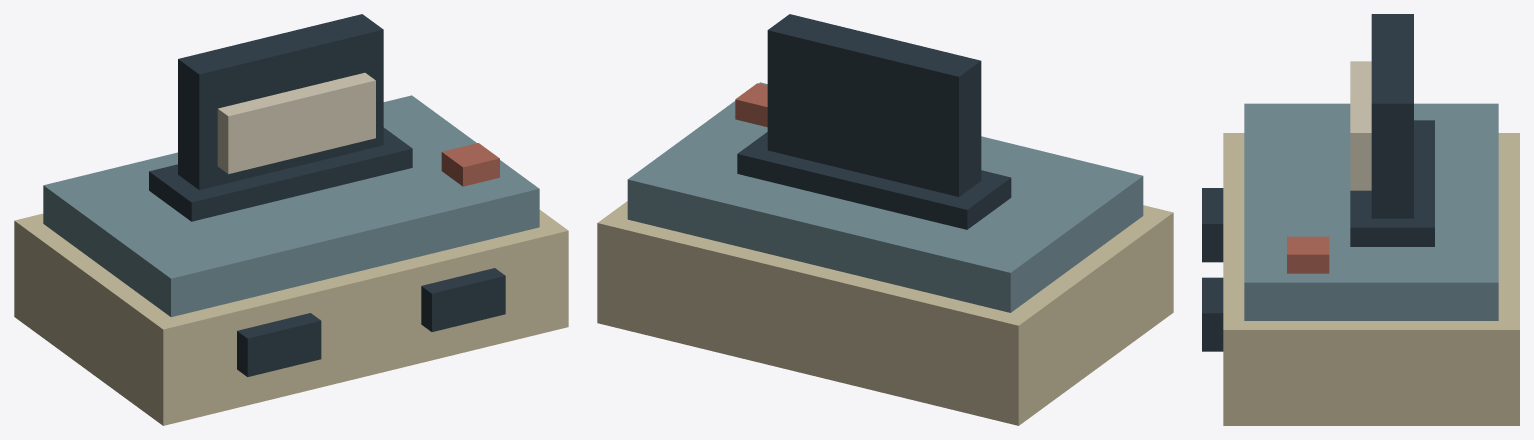
File: telecom-10.glb
The picture shows the model from 3 angles, left to right: view 1: azimuth 30°, elevation 25°; view 2: azimuth 150°, elevation 25°; view 3: azimuth 270°, elevation 25°; orthographic projection. The views are drawn at different scales.
Parts seen in each view (by area): view 1: Network console; view 2: Network console; view 3: Network console.
Part boxes in pixels (bbox=[...]): Network console: bbox=[14, 14, 568, 425]; Network console: bbox=[597, 14, 1173, 425]; Network console: bbox=[1202, 14, 1519, 425].
Bounding box in the file's own units: 1.76 × 1.12 × 1.2.
